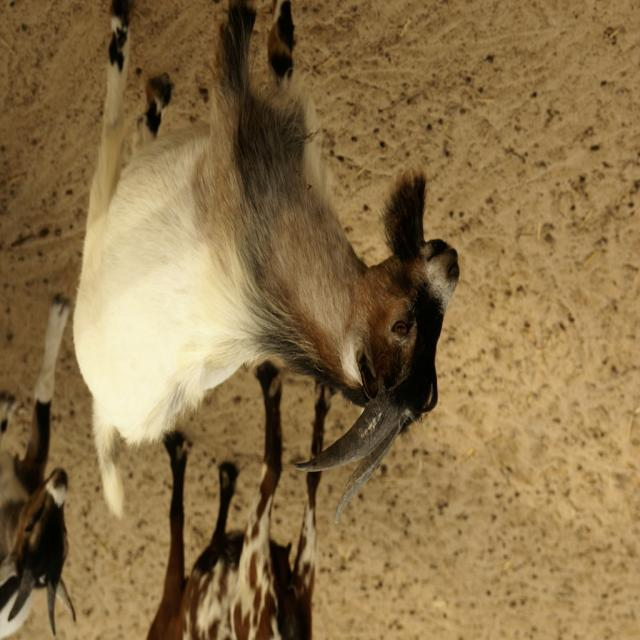Goat: (71, 2, 460, 529), (145, 363, 332, 640), (0, 295, 76, 639)
